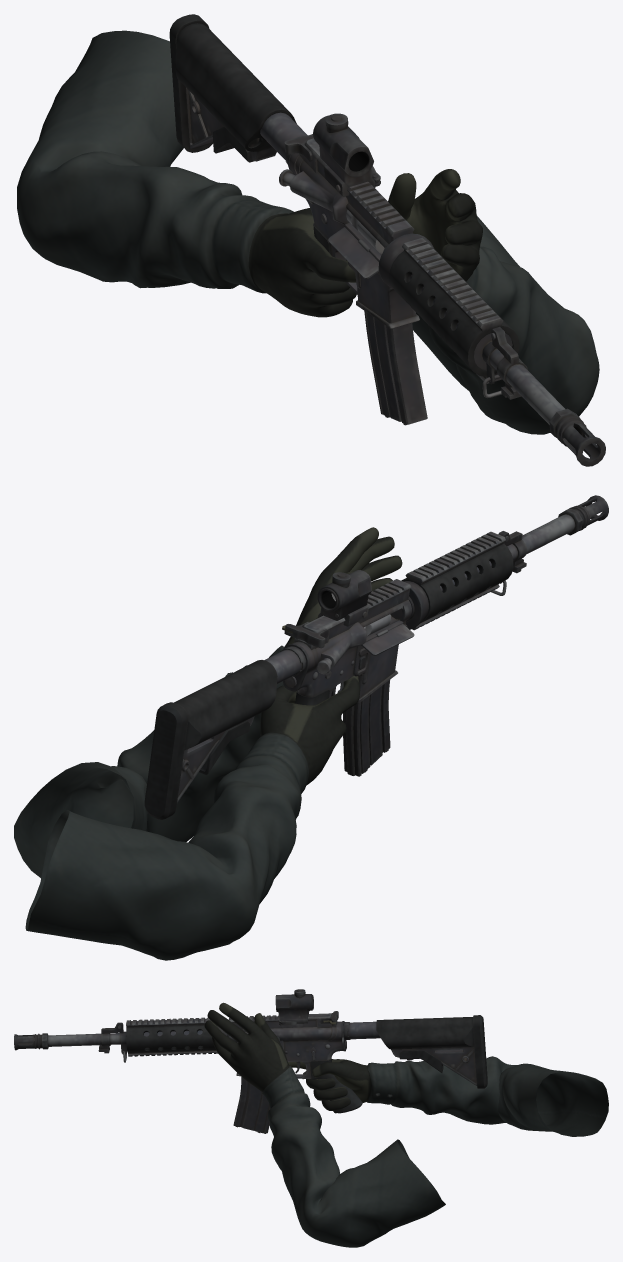
The model's file is carbine_000044.obj.
The picture shows the model from 3 angles, top to bottom: view 1: azimuth 30°, elevation 25°; view 2: azimuth 150°, elevation 25°; view 3: azimuth 270°, elevation 25°; orthographic projection. The views are drawn at different scales.
Visible parts, largest first — view 1: armmesh_arms_0, base_carbine_0, clip_carbine_0, scope_carbine_0, lid_carbine_0; view 2: armmesh_arms_0, base_carbine_0, clip_carbine_0, scope_carbine_0, lid_carbine_0, handle_carbine_0; view 3: armmesh_arms_0, base_carbine_0, clip_carbine_0, scope_carbine_0.
Boxes of the visible parts, bbox=[...] form: armmesh_arms_0: bbox=[17, 30, 599, 434]; base_carbine_0: bbox=[169, 14, 605, 466]; clip_carbine_0: bbox=[364, 311, 427, 425]; scope_carbine_0: bbox=[313, 113, 380, 196]; lid_carbine_0: bbox=[328, 227, 378, 278]; armmesh_arms_0: bbox=[14, 527, 402, 960]; base_carbine_0: bbox=[144, 495, 608, 819]; clip_carbine_0: bbox=[343, 680, 390, 776]; scope_carbine_0: bbox=[317, 570, 371, 626]; lid_carbine_0: bbox=[361, 624, 414, 655]; handle_carbine_0: bbox=[284, 622, 328, 648]; armmesh_arms_0: bbox=[204, 1002, 608, 1247]; base_carbine_0: bbox=[14, 1013, 487, 1113]; clip_carbine_0: bbox=[233, 1077, 270, 1133]; scope_carbine_0: bbox=[275, 989, 313, 1025].
Size of the model in its own units: 48.14 by 47.29 by 128.
3 materials, 3 textured.
